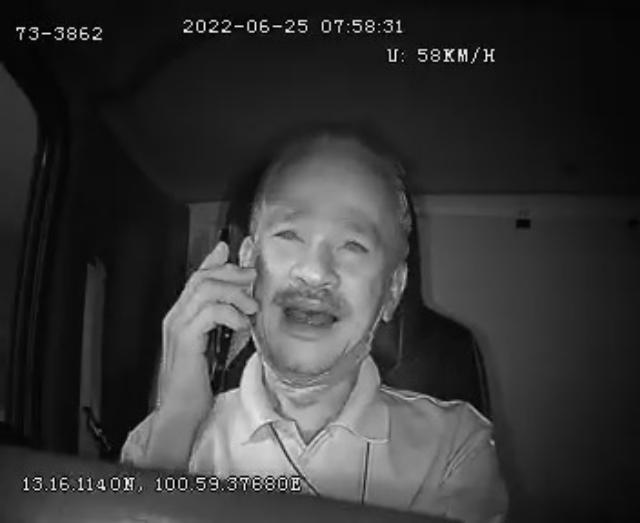PhoneUse: (202, 223, 238, 401)
SafeDriving: (330, 224, 376, 266), (264, 214, 310, 252)
